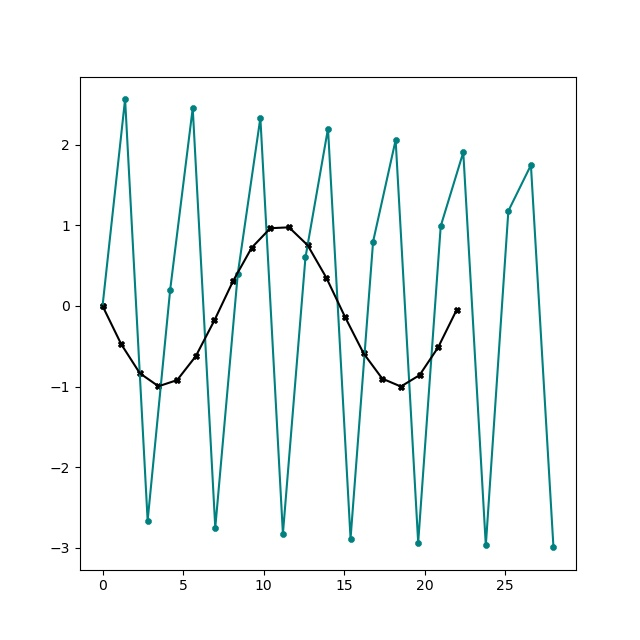Cross: (99, 302, 108, 311), (117, 340, 126, 349), (136, 369, 145, 378), (154, 382, 163, 391), (173, 376, 182, 385), (192, 352, 201, 361), (210, 316, 219, 325), (229, 277, 238, 286), (248, 244, 257, 253), (266, 224, 275, 233), (285, 223, 294, 232), (304, 241, 313, 250), (322, 274, 331, 283), (341, 313, 350, 322), (360, 349, 369, 358), (378, 375, 387, 384), (397, 383, 406, 392), (416, 371, 425, 380), (434, 343, 443, 352), (453, 306, 462, 315)
octagon: (99, 302, 108, 311), (121, 95, 130, 104), (144, 517, 153, 526), (166, 286, 175, 295), (189, 104, 198, 113), (211, 524, 220, 533), (234, 270, 243, 279), (256, 114, 265, 123), (279, 530, 288, 539), (301, 253, 310, 262), (324, 125, 333, 134), (347, 535, 356, 544), (369, 238, 378, 247), (392, 136, 401, 145), (414, 539, 423, 548), (437, 222, 446, 231), (459, 148, 468, 157), (482, 541, 491, 550), (504, 207, 513, 216), (527, 161, 536, 170), (549, 543, 558, 552)
